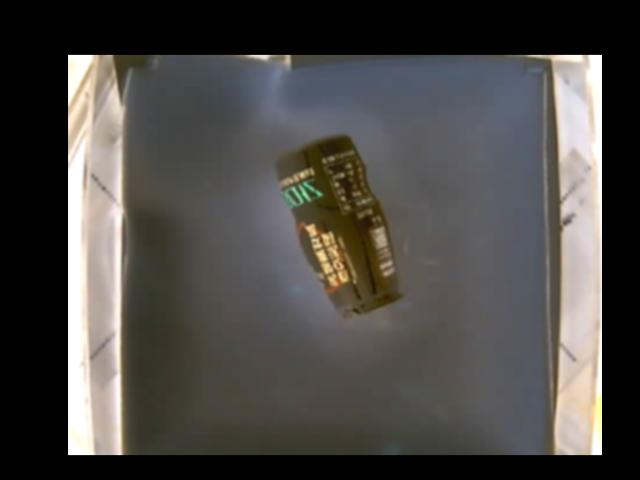Bottle: (274, 130, 405, 320)
